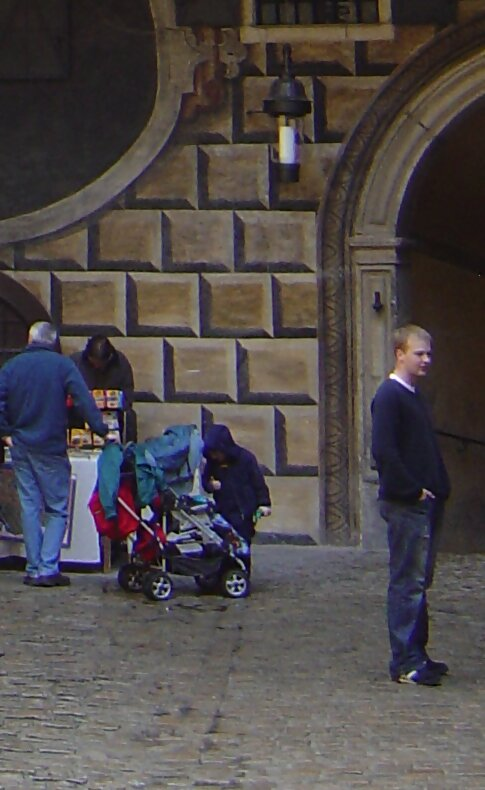person: (367, 321, 461, 685), (1, 315, 109, 592), (191, 419, 278, 583), (60, 333, 149, 442)
